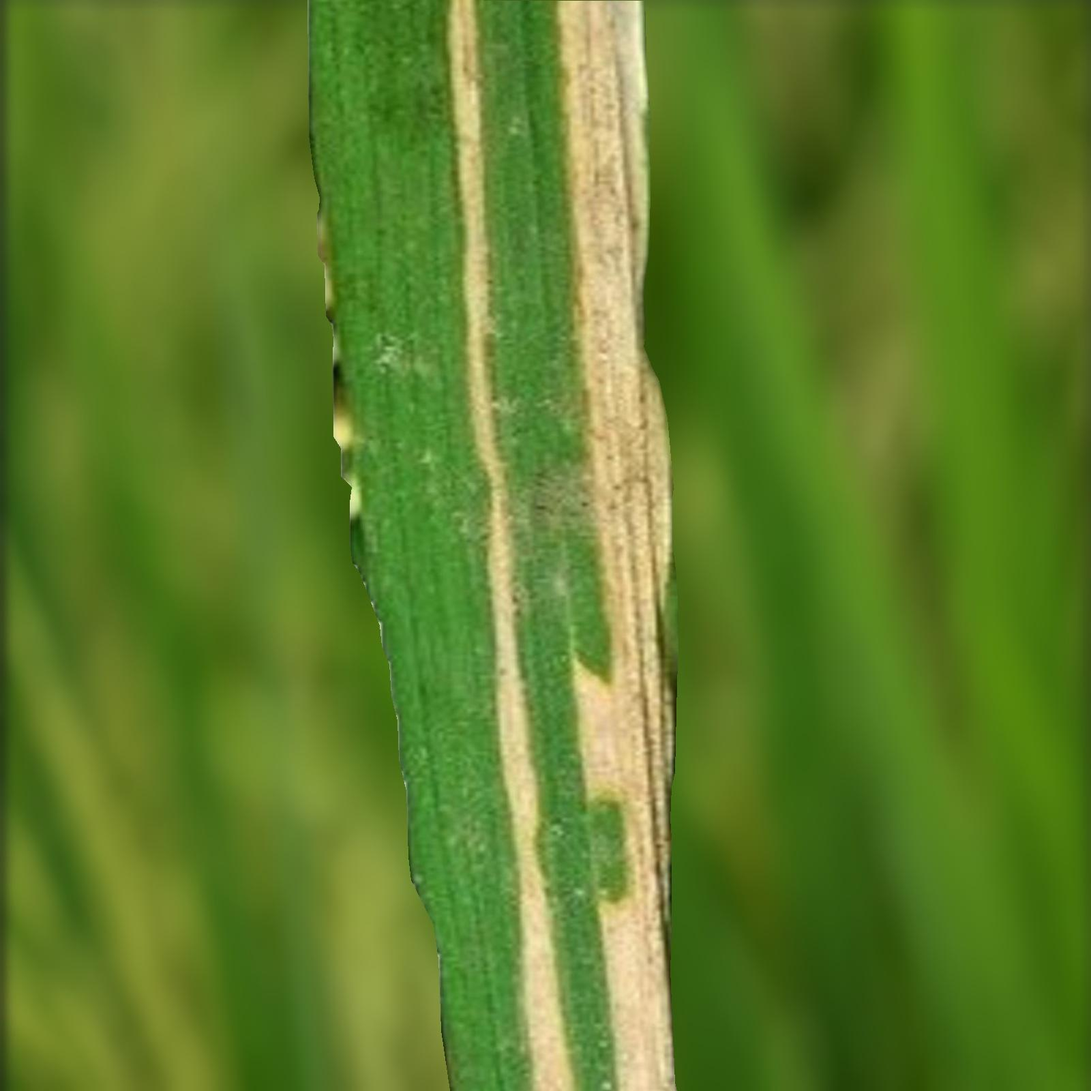BLB: (445, 0, 573, 1089), (558, 3, 673, 1089)
LEAF: (308, 0, 679, 1090)
